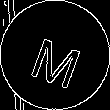M_N: (25, 24, 85, 86)
